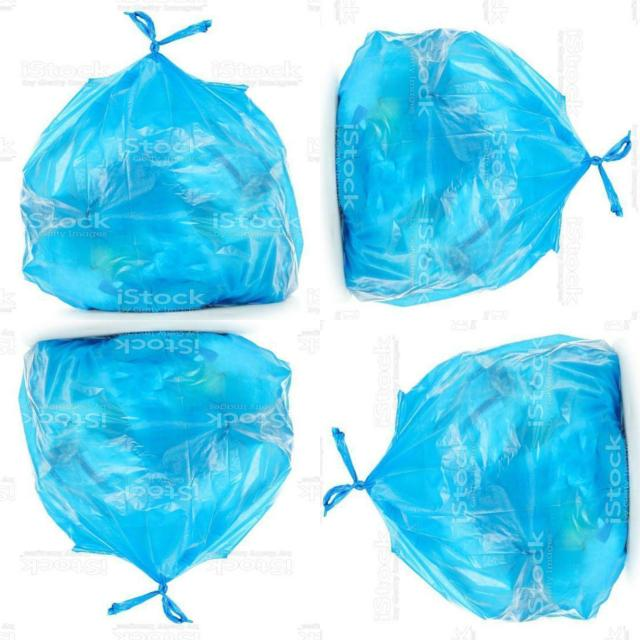Single-layer Plastic: (324, 335, 629, 621), (21, 12, 302, 311), (336, 29, 630, 305), (19, 331, 292, 624)
